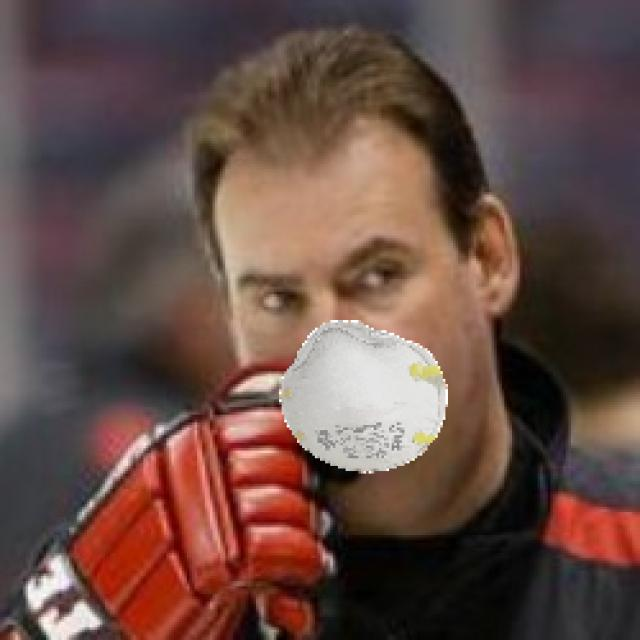mask: (273, 309, 467, 486)
